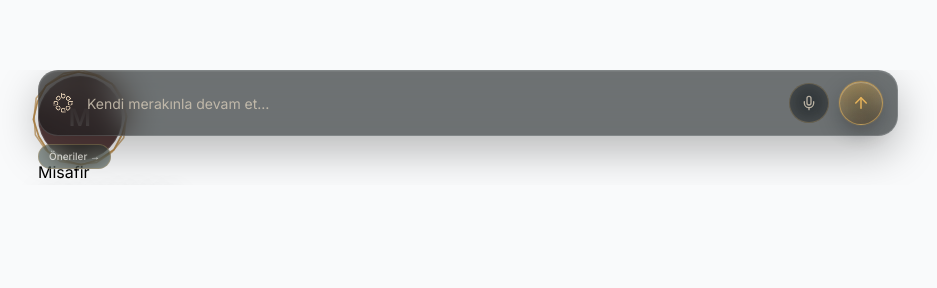
Test: sainaConversationMock (Sprint A / A.8 alignment) › starts empty: composer visible, chat card hidden until send
Check: the element with test id "saina-main-body" is shown, box [32,70,898,213]
Check: the element with test id "saina-chat-column" is shown, box [38,70,898,185]
In the field named "Mesaj yaz": (431, 103) [83,84,779,122], type "Merhaba biligN"
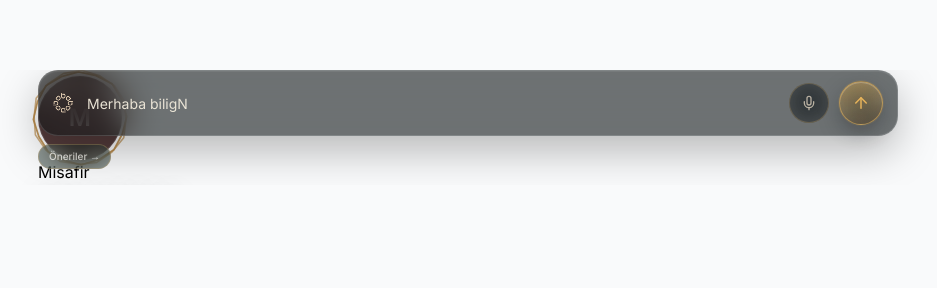
Click the button with test id "saina-send-btn": click(861, 103) [839,81,883,125]
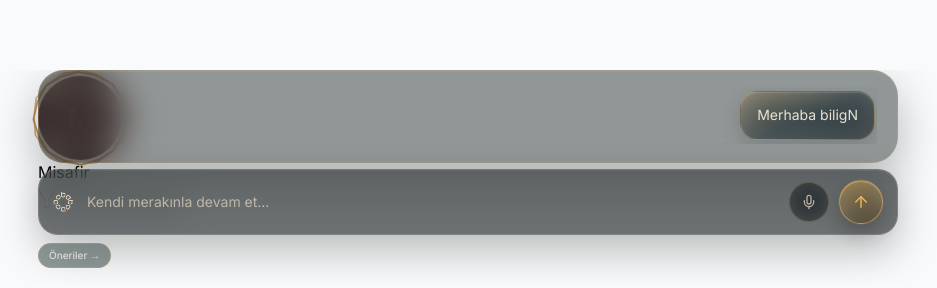
Check: the element with test id "saina-chat-card" is shown, box [38,70,898,163]
Check: the text "Merhaba biligN" is shown, box [757,104,858,127]
